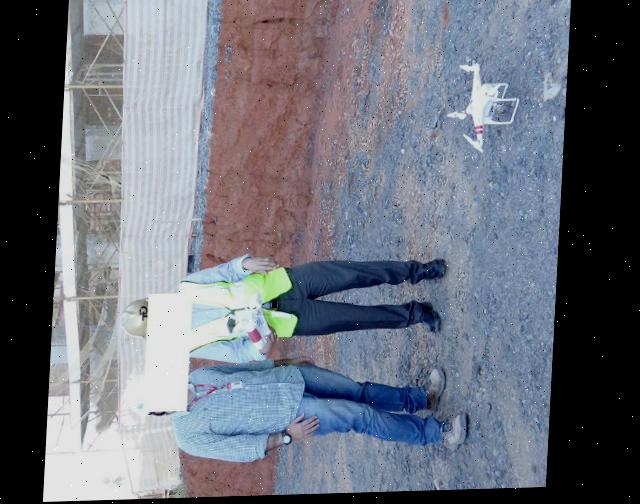drone: (445, 62, 519, 157)
